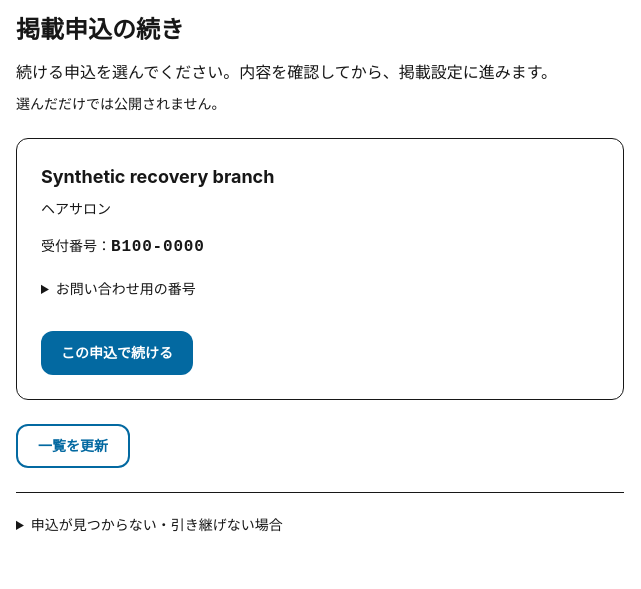
Test case: denied or expired preparation never navigates 0
Expected: the text "Synthetic recovery branch" is shown, 41,166 -> 274,187
Click the button "この申込で続ける": (117, 353) 41,331 -> 193,375
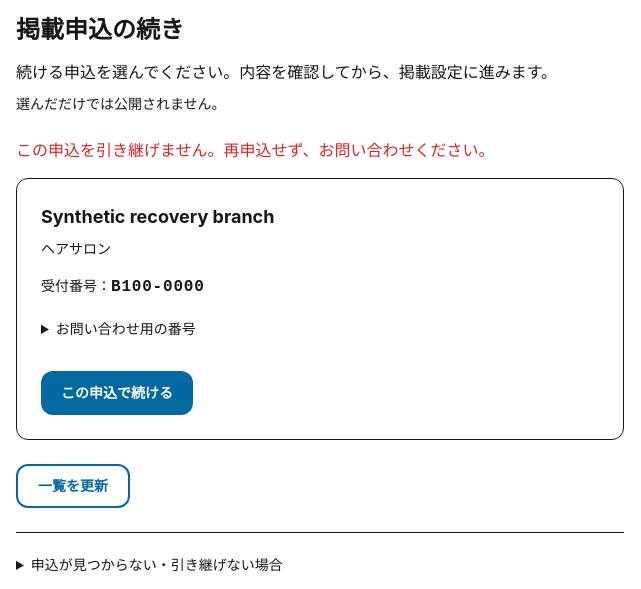
Expected: the message "この申込を引き継げません。再申込せず、お問い合わせください。" is shown, 16,140 -> 494,160
